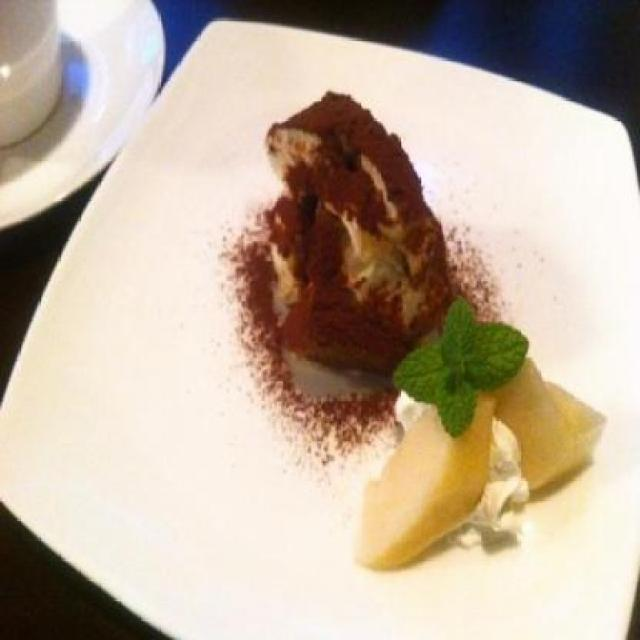Tiramisu: (256, 78, 436, 404)
